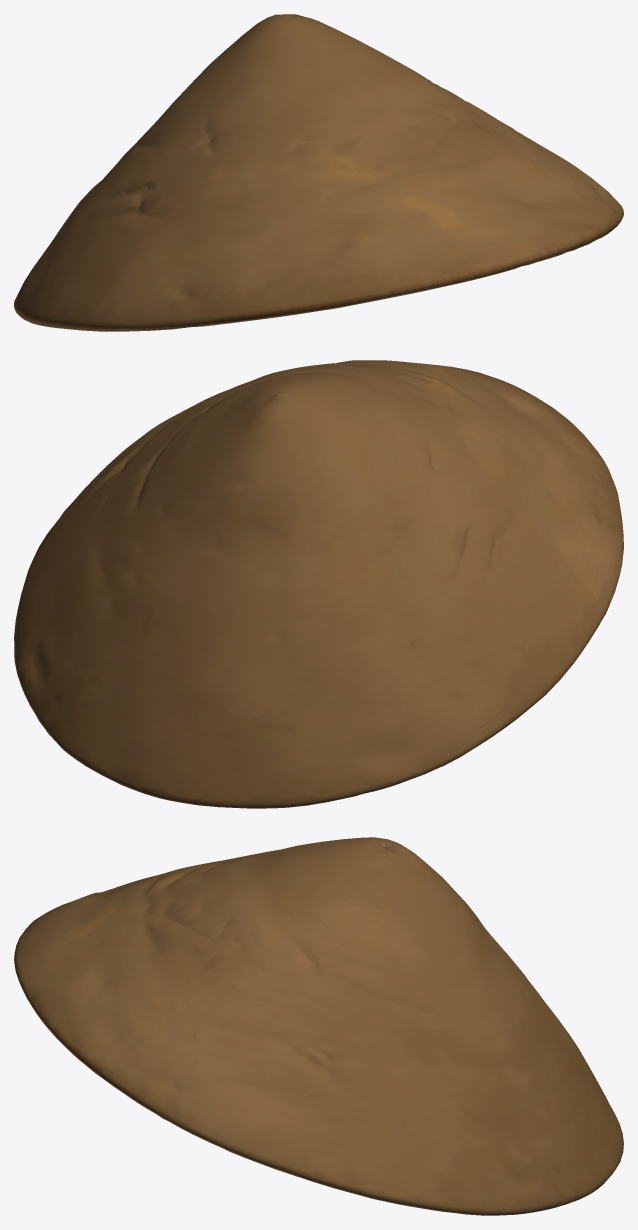
Rendered from Sensei.glb.
The picture shows the model from 3 angles, top to bottom: view 1: azimuth 30°, elevation 25°; view 2: azimuth 150°, elevation 25°; view 3: azimuth 270°, elevation 25°; orthographic projection. The views are drawn at different scales.
Parts seen in each view (by area): view 1: Sensei; view 2: Sensei; view 3: Sensei.
Boxes of the visible parts, left/top/right/bottom form: Sensei: left=14, top=14, right=623, bottom=331; Sensei: left=14, top=360, right=623, bottom=808; Sensei: left=14, top=837, right=623, bottom=1215.
Size of the model in its own units: 0.7916 by 0.4559 by 0.8199.
Materials: 1 (1 with a texture image).
